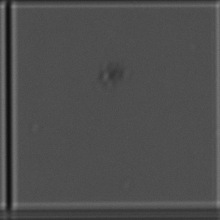Dead Cell: (95, 60, 129, 88)
